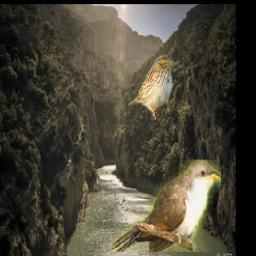Cuckoo: (111, 161, 222, 253)
Sparrow: (128, 54, 174, 120)
